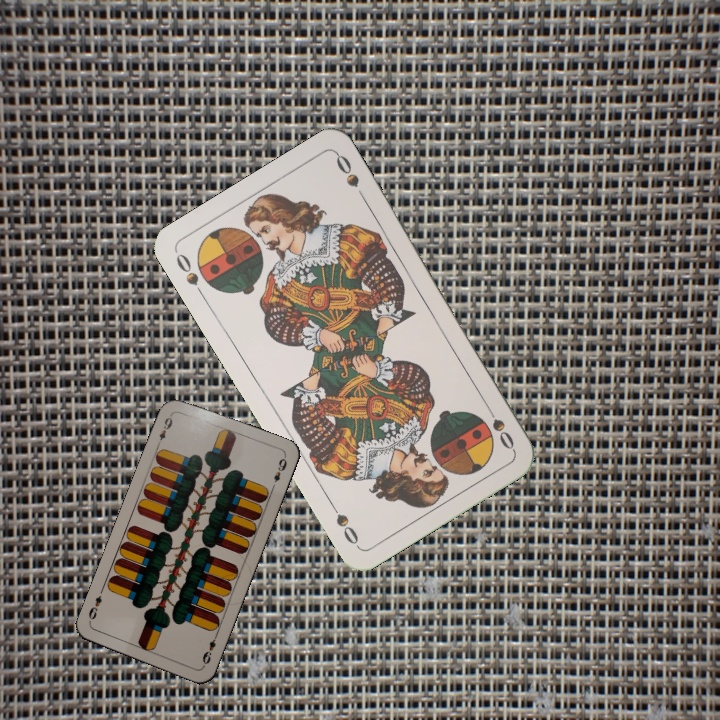E9: (153, 410, 175, 448), (198, 630, 220, 667)
SO: (480, 399, 517, 453), (171, 249, 208, 302)
